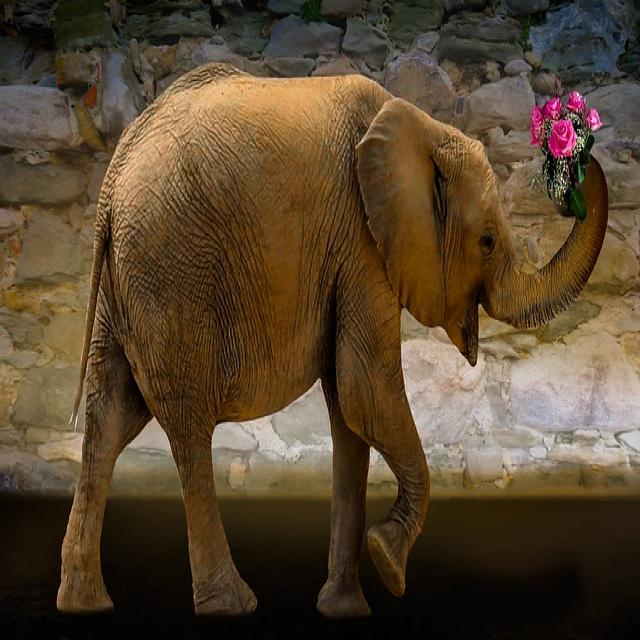elephant: (58, 66, 608, 617)
